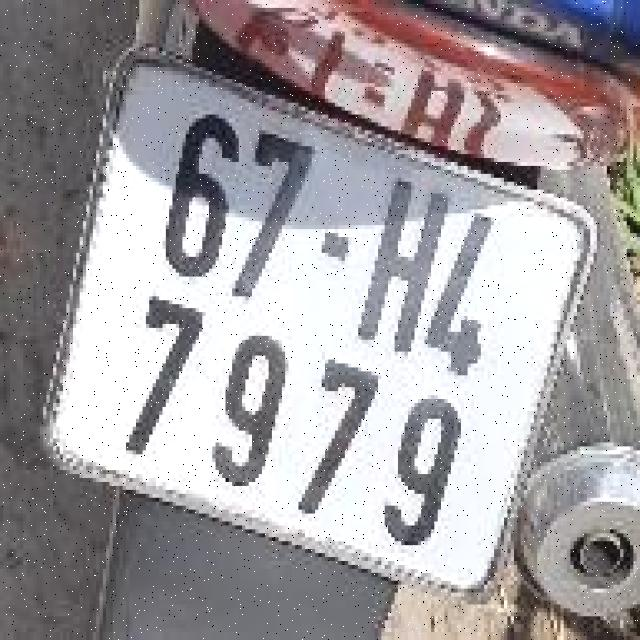4: (413, 192, 531, 395)
6: (153, 102, 252, 295)
7: (217, 115, 324, 316), (278, 348, 392, 530), (109, 284, 222, 467)
9: (367, 375, 477, 560), (202, 318, 311, 503)
H: (339, 163, 464, 372)
